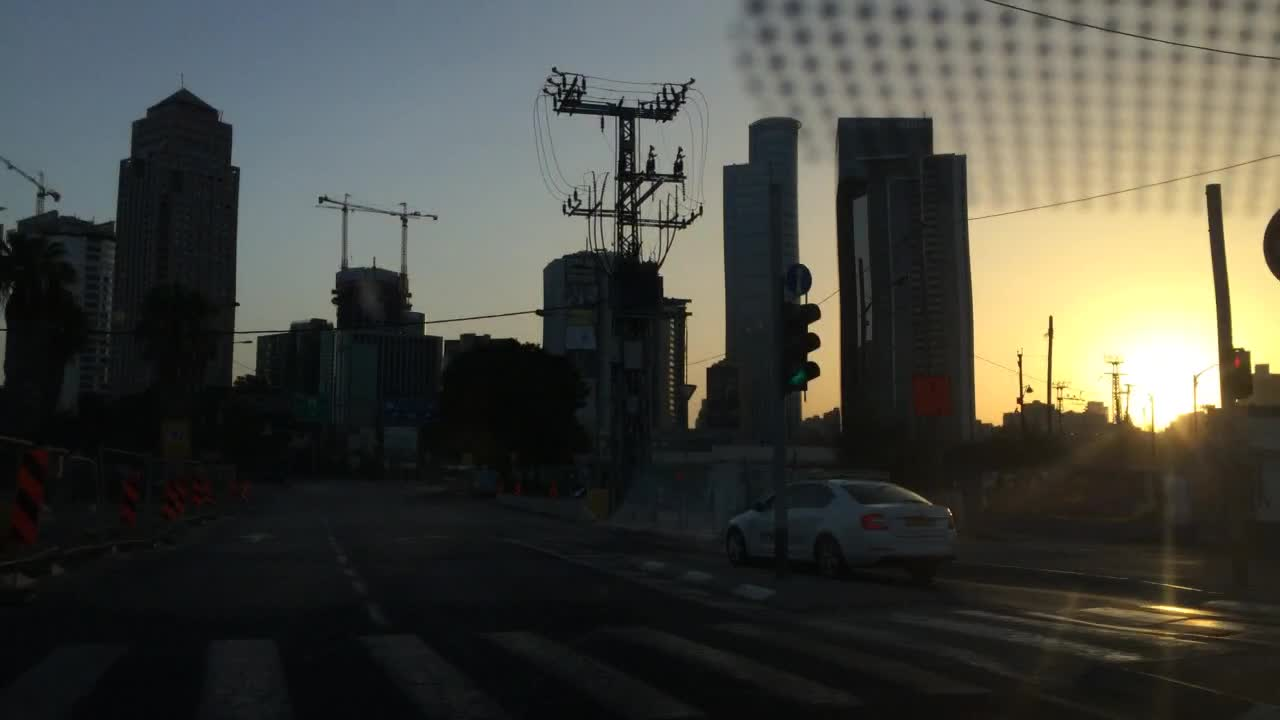car: (724, 474, 960, 583)
traffic light: (788, 301, 822, 394), (1230, 347, 1252, 396)
traffic sign: (380, 394, 434, 418), (161, 422, 191, 460), (786, 264, 814, 294), (300, 396, 327, 422)
